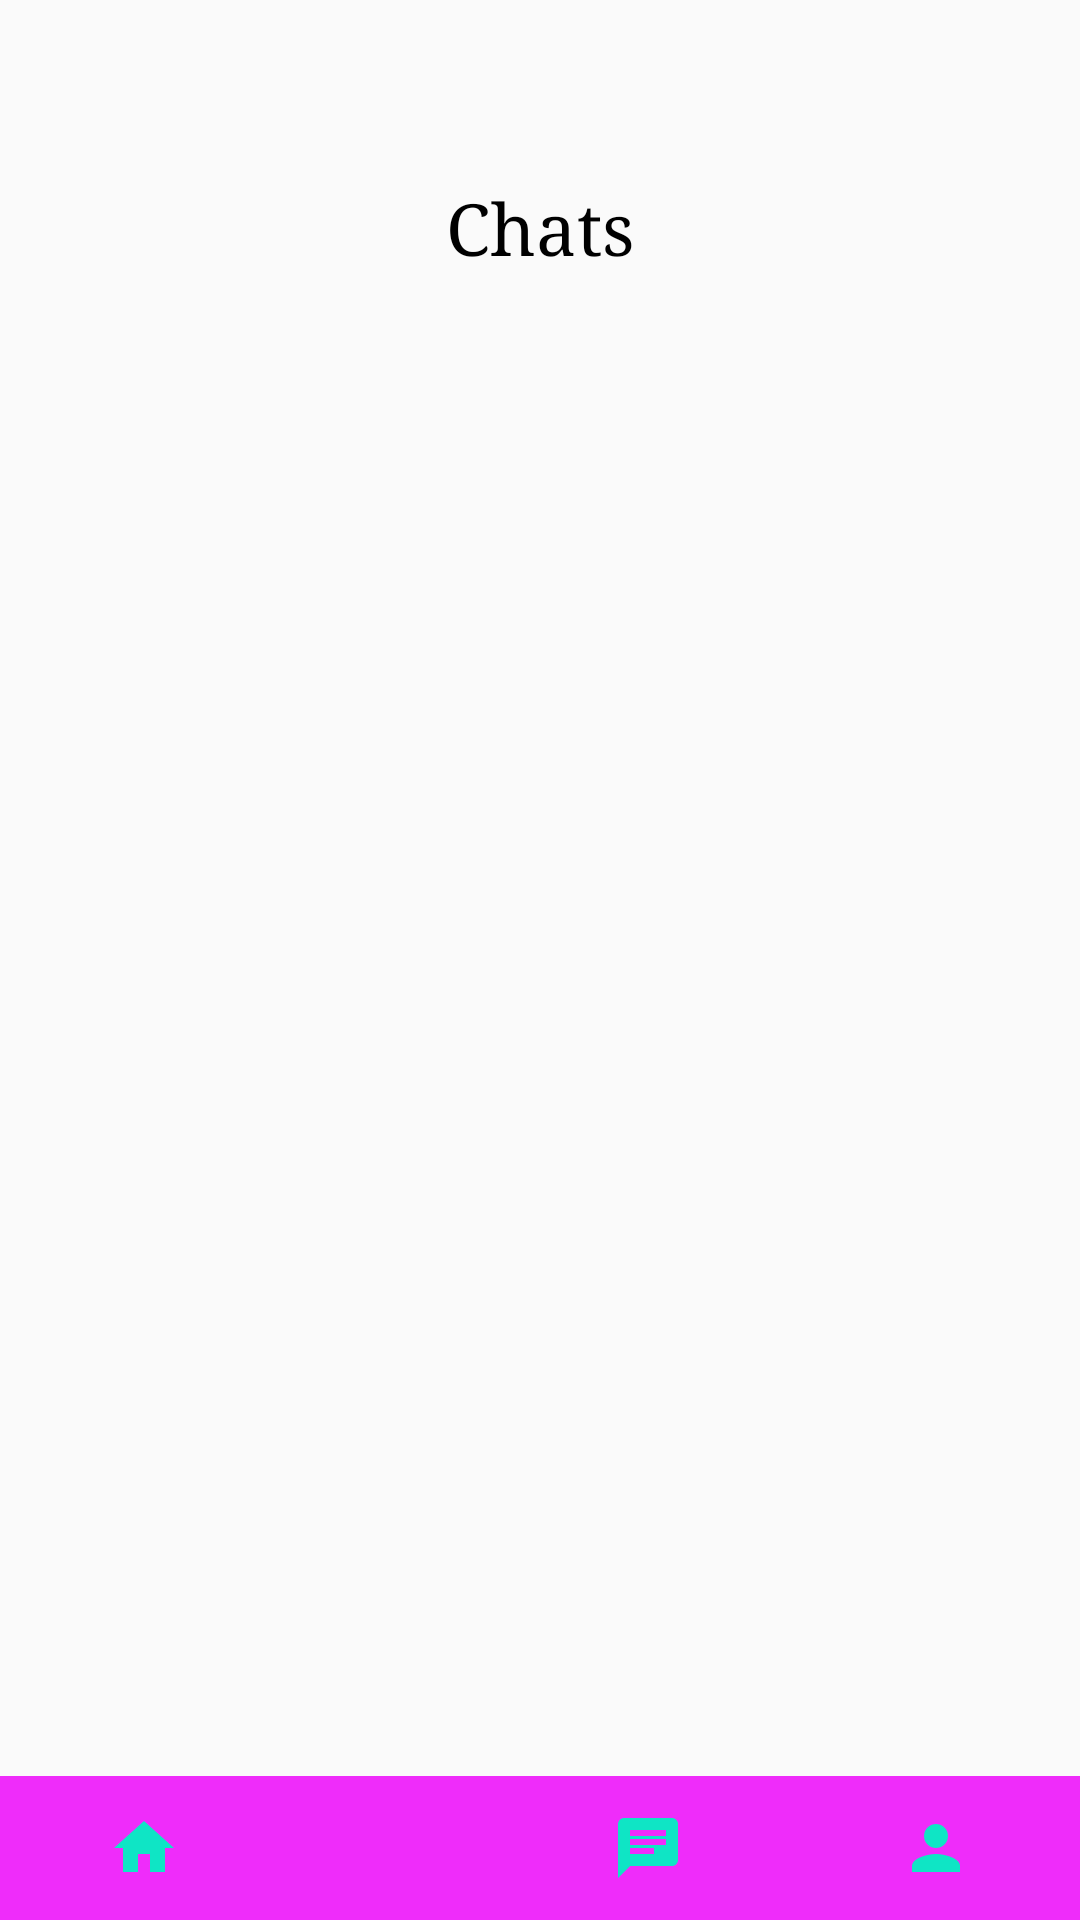

Named icons in this screenshot (1080px x 1920px) and their centers, (x=x, y=y):
Chats display navigation button: (x=648, y=1848)
Home display navigation button: (x=144, y=1846)
Profile display navigation button: (x=936, y=1848)
